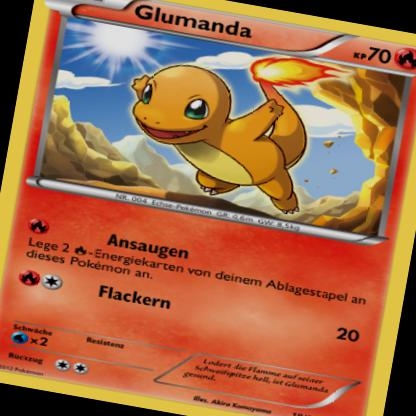Charmander: (114, 40, 339, 220)
